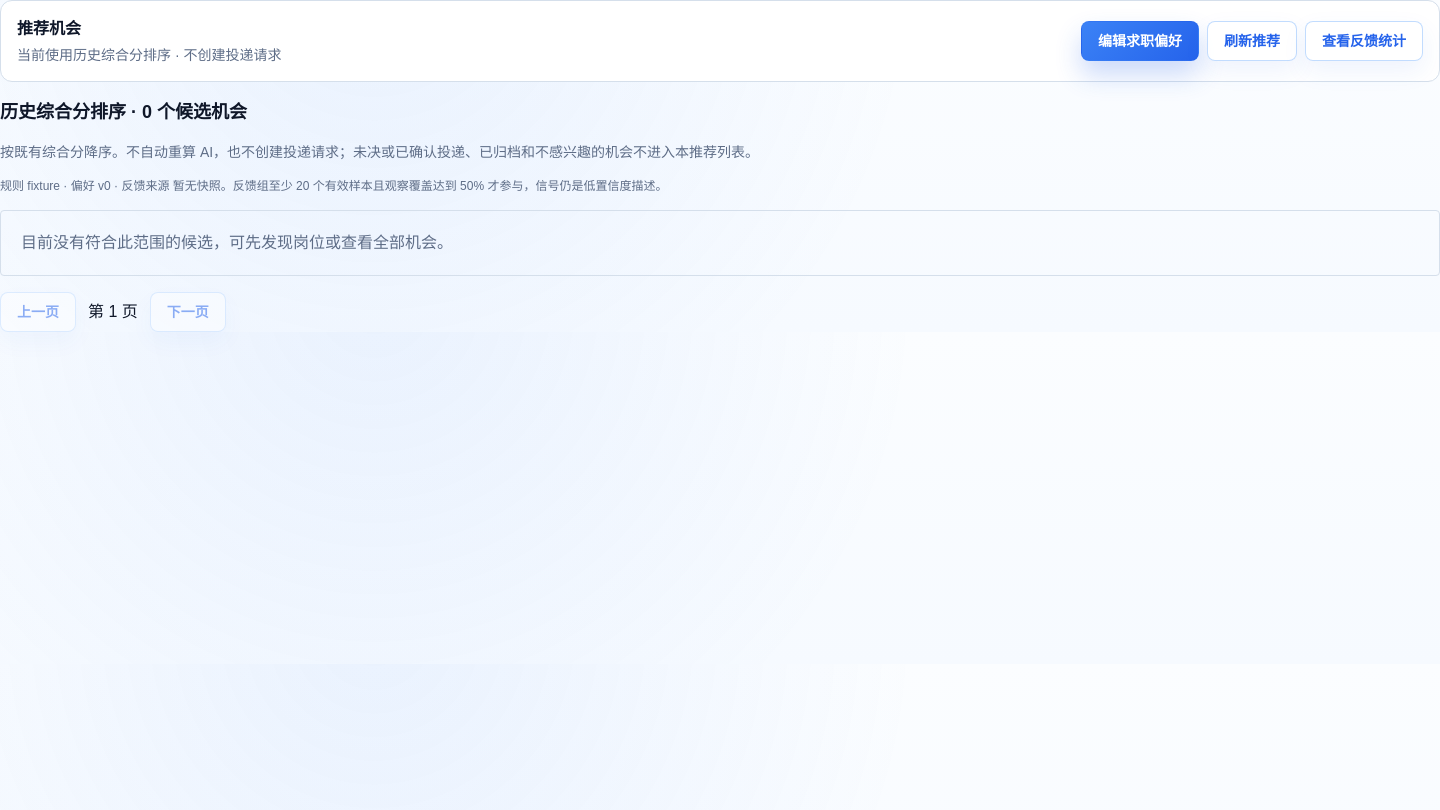
retains a side-panel draft when inspecting preview and saves only after explicit confirmation
Click the button "编辑求职偏好".
click(1140, 41)  # box [1081,21,1199,61]
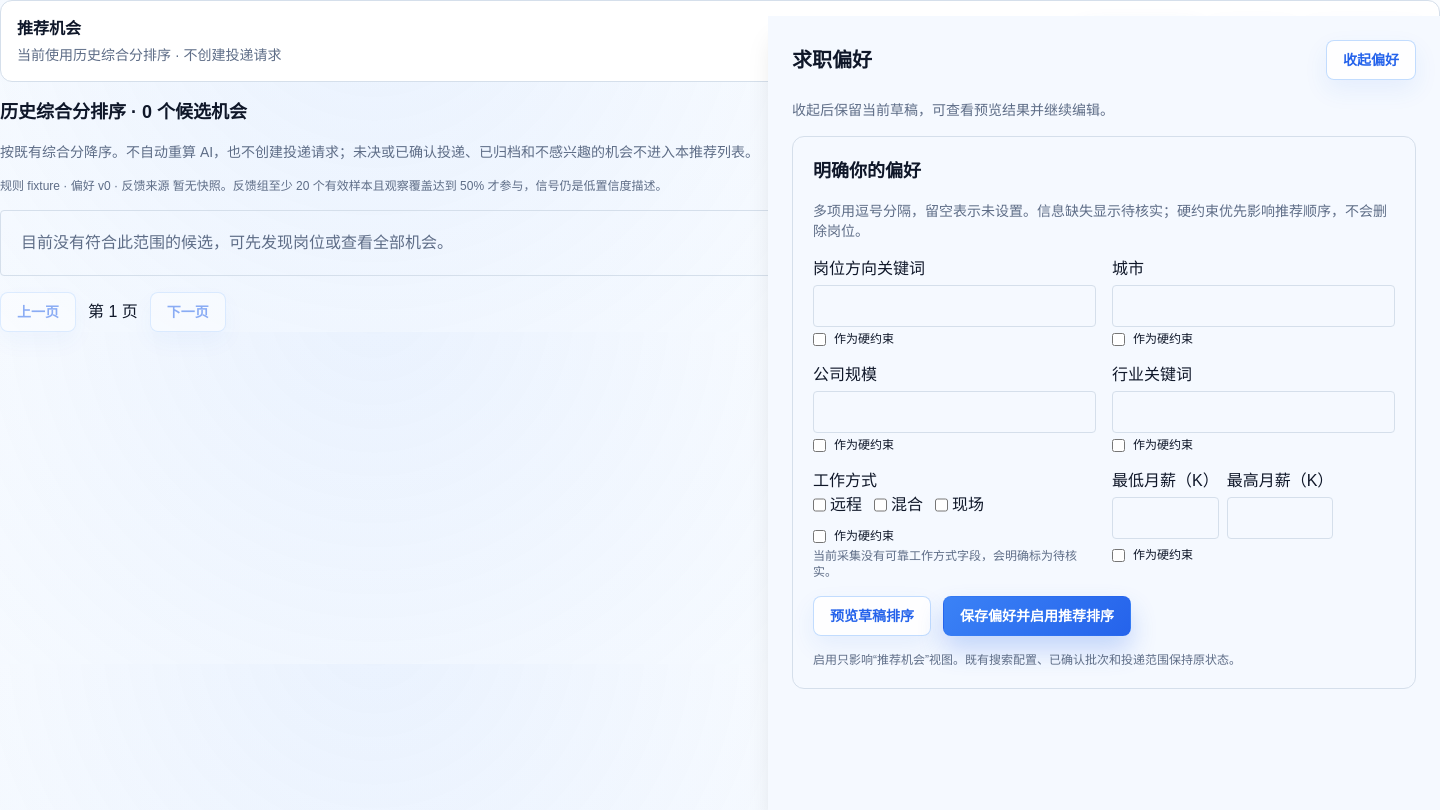
Type "采购经理" into the field labelled "岗位方向关键词".
click(954, 306); type("采购经理")  # box [813,285,1096,327]
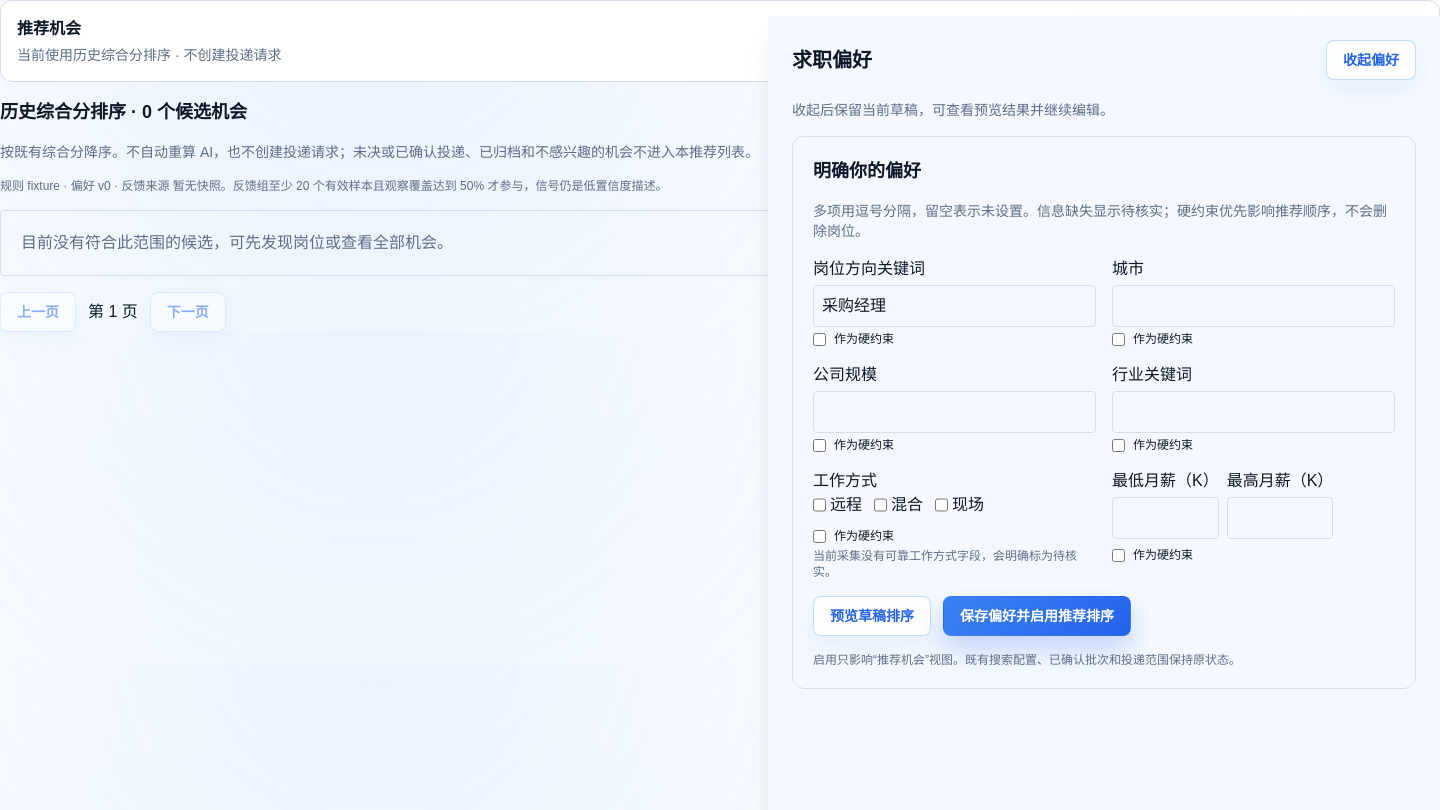
Click the button "预览草稿排序".
click(872, 616)  # box [813,596,931,636]
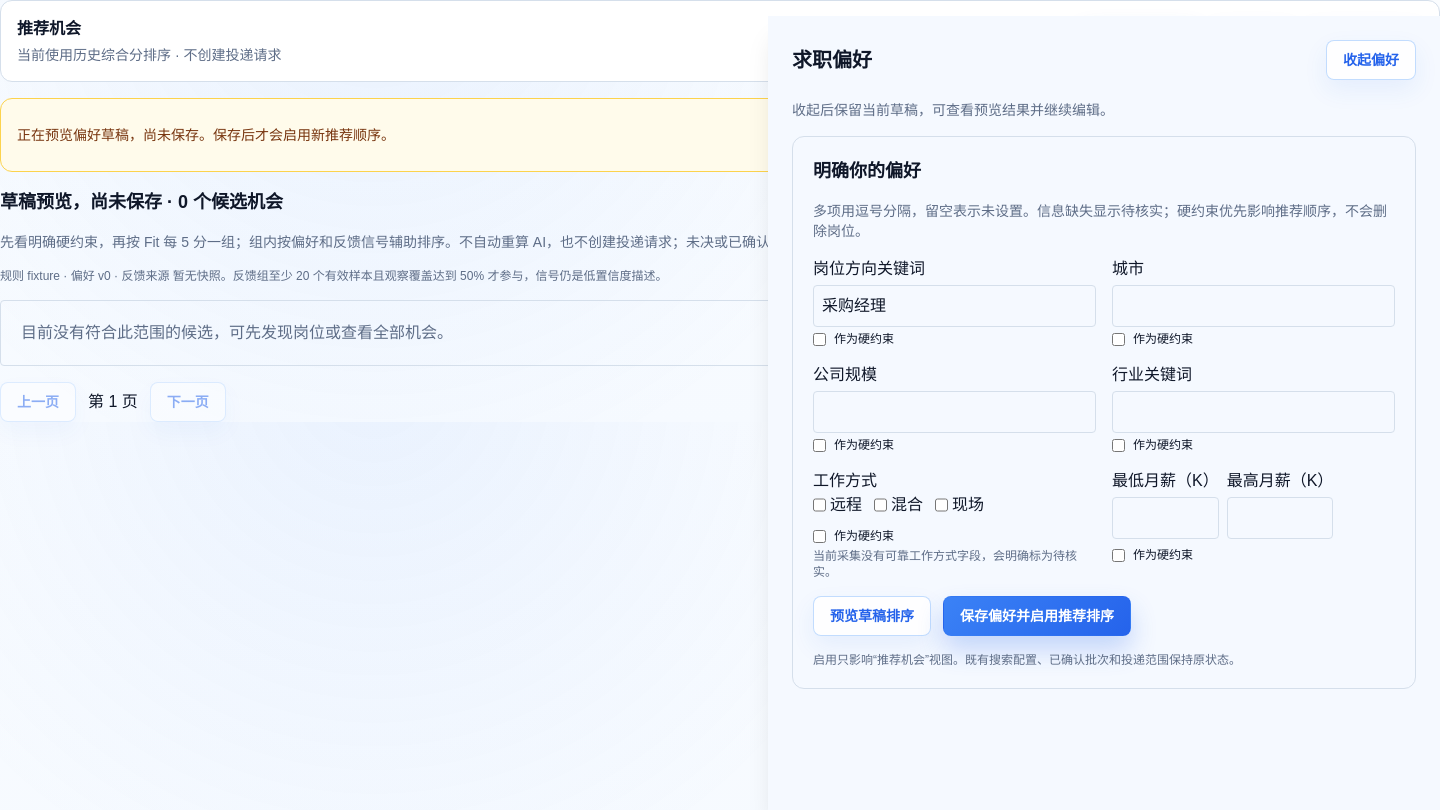
Expected: the text "正在预览偏好草稿，尚未保存。保存后才会启用新推荐顺序。" is shown, [17,125,395,145]
Click the button "收起偏好".
click(1371, 60)  # box [1326,40,1416,80]
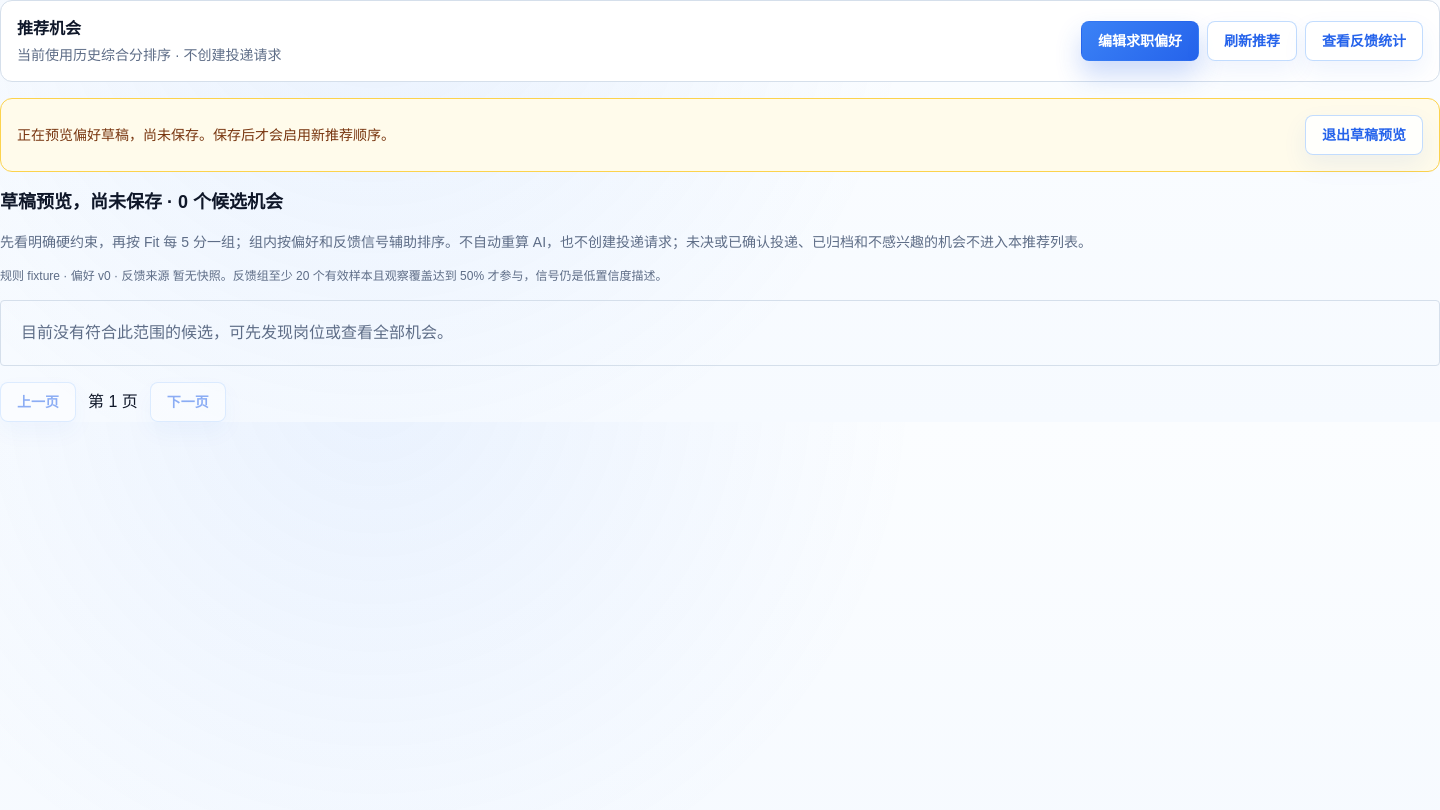
Expected: the dialog is gone
Click the button "编辑求职偏好".
click(1140, 41)  # box [1081,21,1199,61]
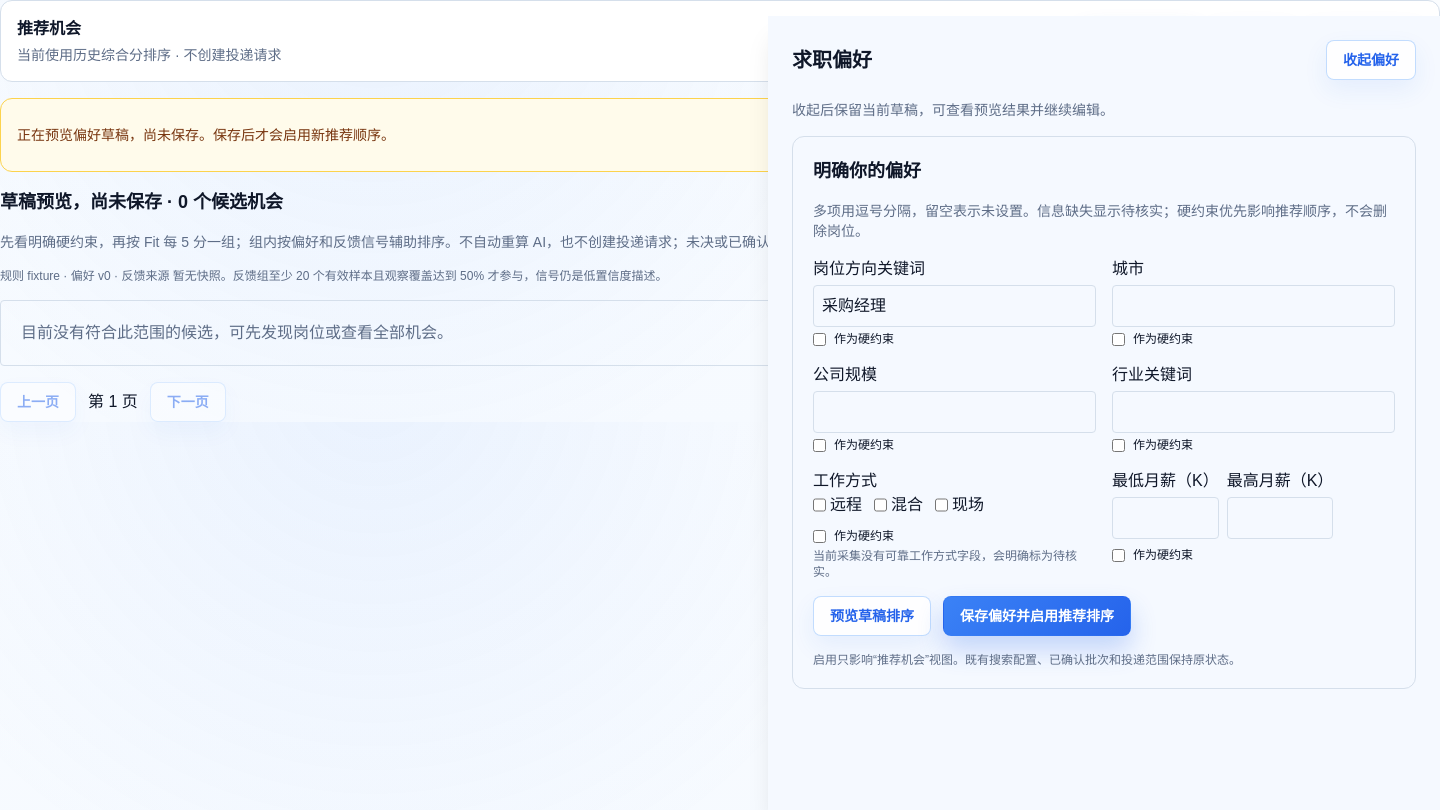
Click the button "保存偏好并启用推荐排序".
click(1037, 616)  # box [943,596,1131,636]
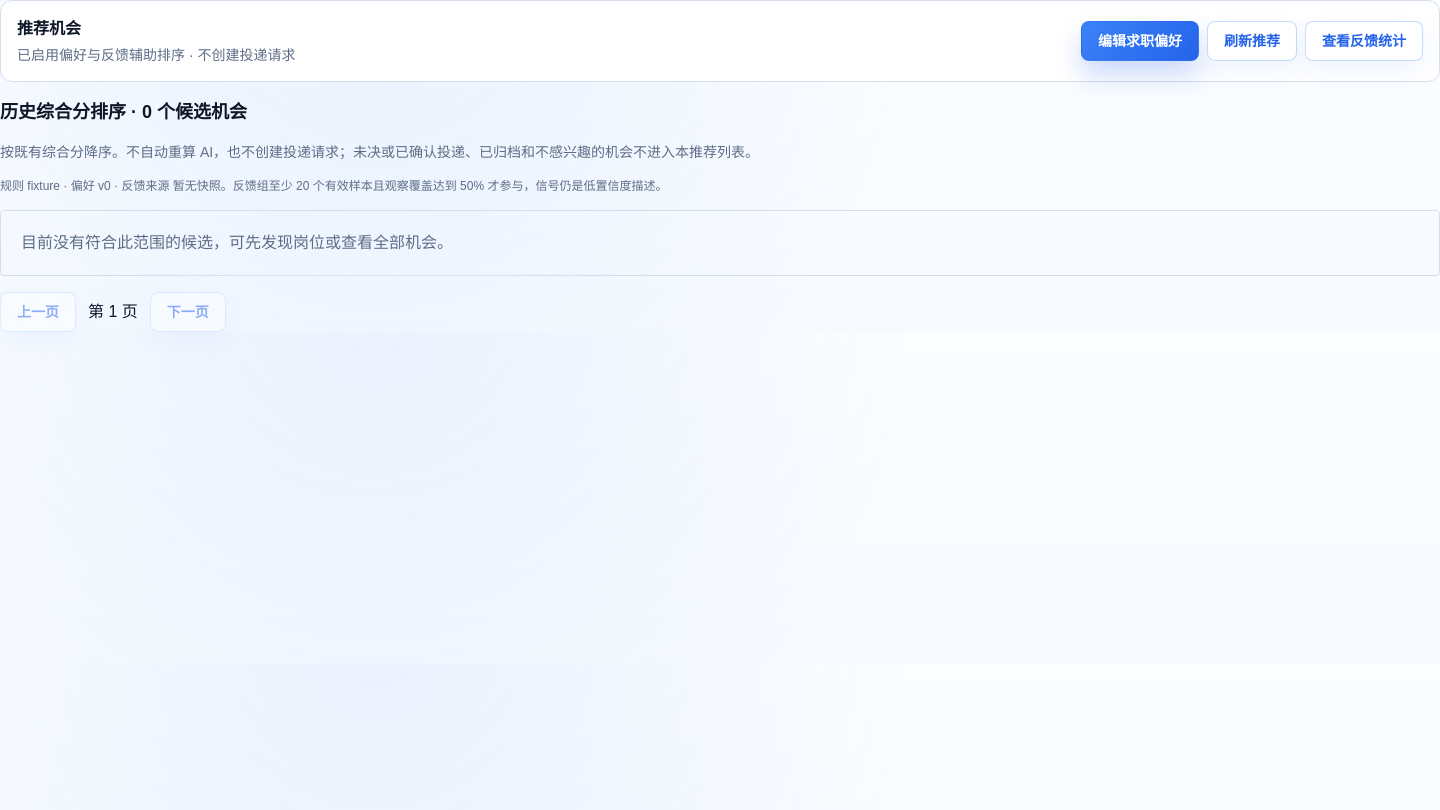
Expected: the dialog is gone
